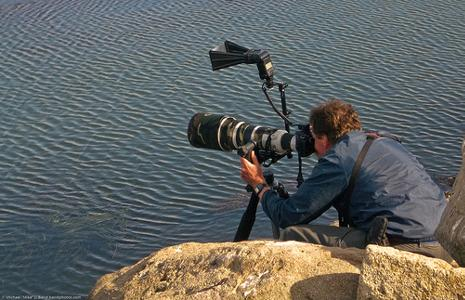person: (241, 99, 457, 268)
